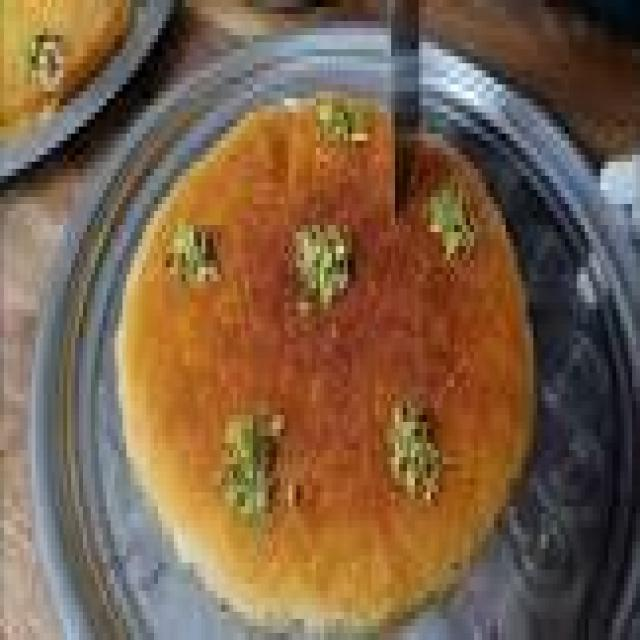konafa: (103, 77, 544, 640), (0, 0, 134, 126)
